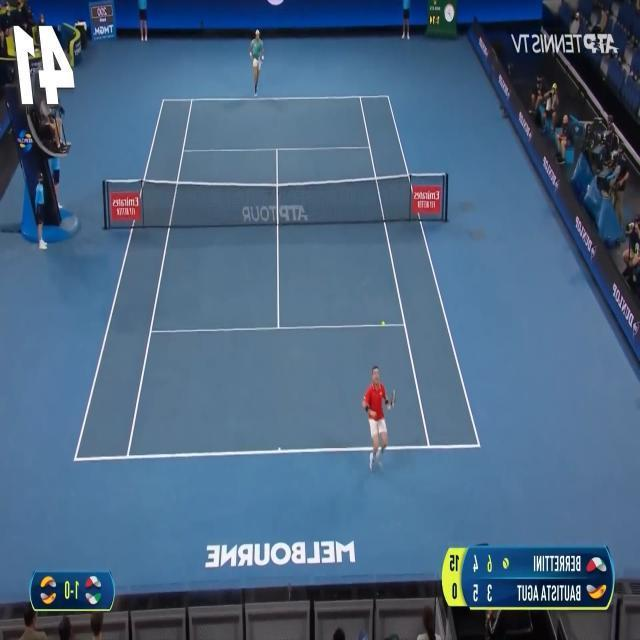court: (73, 96, 481, 462)
net: (102, 171, 449, 229)
player: (362, 365, 397, 473)
